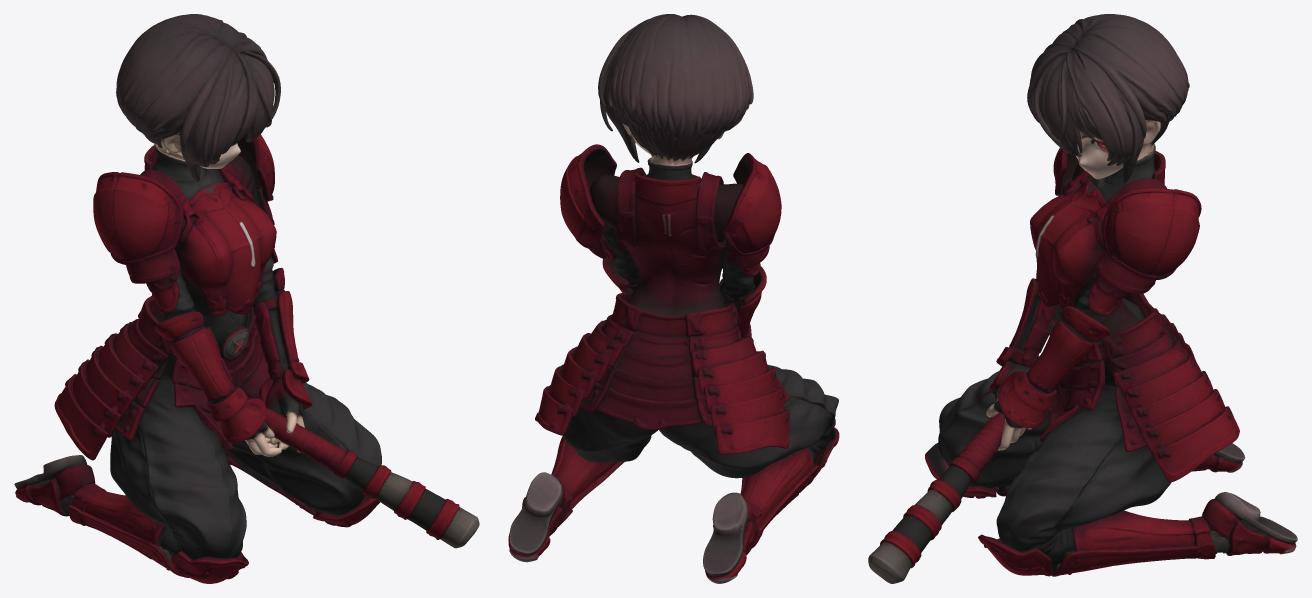
Rendered from 333-crimson-armored-samurai-warrior.glb.
3 renders of one model, left to right at view 1: azimuth 30°, elevation 25°; view 2: azimuth 150°, elevation 25°; view 3: azimuth 270°, elevation 25°, orthographic.
Parts seen in each view (by area): view 1: tripo_node_d3763150-62de-4585-a1fb-8496bdda698b; view 2: tripo_node_d3763150-62de-4585-a1fb-8496bdda698b; view 3: tripo_node_d3763150-62de-4585-a1fb-8496bdda698b.
Part boxes in pixels (bbox=[...]): tripo_node_d3763150-62de-4585-a1fb-8496bdda698b: bbox=[14, 14, 479, 583]; tripo_node_d3763150-62de-4585-a1fb-8496bdda698b: bbox=[508, 14, 839, 583]; tripo_node_d3763150-62de-4585-a1fb-8496bdda698b: bbox=[868, 14, 1297, 583].
Bounding box in the file's own units: 0.6143 × 1 × 0.7753.
1 material, 1 textured.
